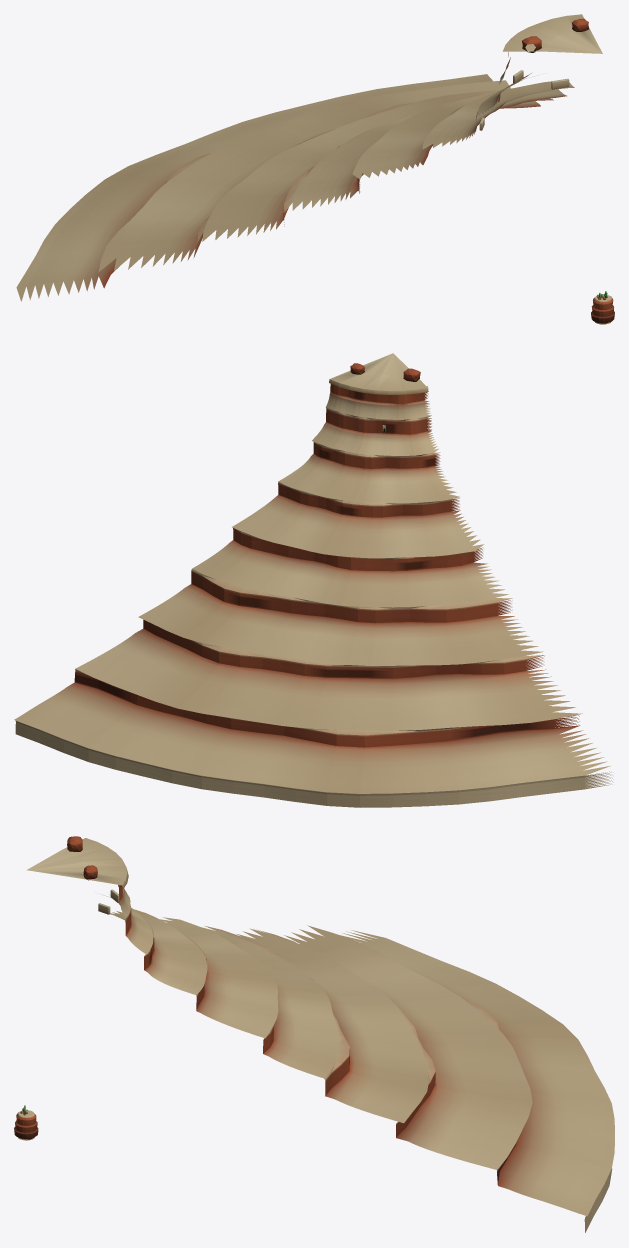
File: canyon-s1-CpM6y-ZK.glb
The picture shows the model from 3 angles, top to bottom: view 1: azimuth 30°, elevation 25°; view 2: azimuth 150°, elevation 25°; view 3: azimuth 270°, elevation 25°; orthographic projection. The views are drawn at different scales.
Visible parts, largest first — view 1: sc_landmark_1, sc_butte_1; view 2: sc_landmark_1; view 3: sc_landmark_1, sc_butte_1.
Boxes of the visible parts, bbox=[...] form: sc_landmark_1: bbox=[16, 14, 602, 301]; sc_butte_1: bbox=[591, 291, 614, 323]; sc_landmark_1: bbox=[14, 353, 613, 807]; sc_landmark_1: bbox=[26, 836, 614, 1232]; sc_butte_1: bbox=[14, 1105, 38, 1139].
Size of the model in its own units: 493 by 234 by 436.
